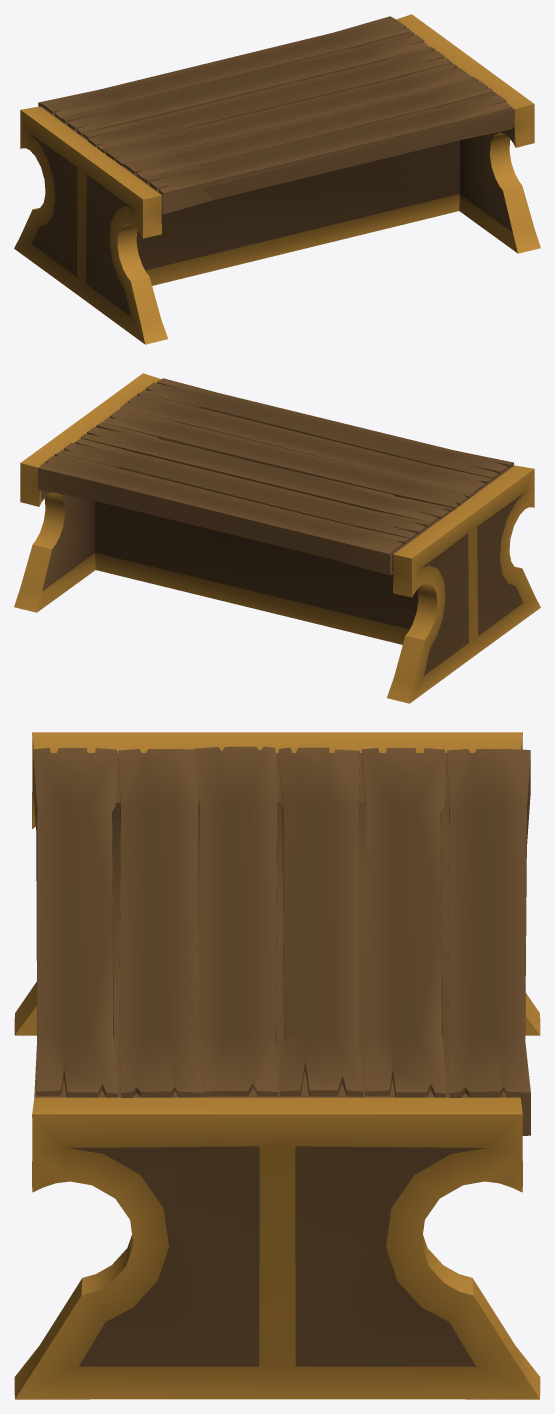
File: obj_tableBigWood_LOW.FBX
The picture shows the model from 3 angles, top to bottom: view 1: azimuth 30°, elevation 25°; view 2: azimuth 150°, elevation 25°; view 3: azimuth 270°, elevation 25°; orthographic projection. The views are drawn at different scales.
Visible parts, largest first — view 1: obj_tableBigWood_LOW; view 2: obj_tableBigWood_LOW; view 3: obj_tableBigWood_LOW.
Part boxes in pixels (box(x1,y1,x2,y2)): obj_tableBigWood_LOW: box(14, 14, 540, 344); obj_tableBigWood_LOW: box(14, 373, 540, 703); obj_tableBigWood_LOW: box(14, 732, 540, 1399).
Size of the model in its own units: 5.67 by 1.97 by 3.26.
